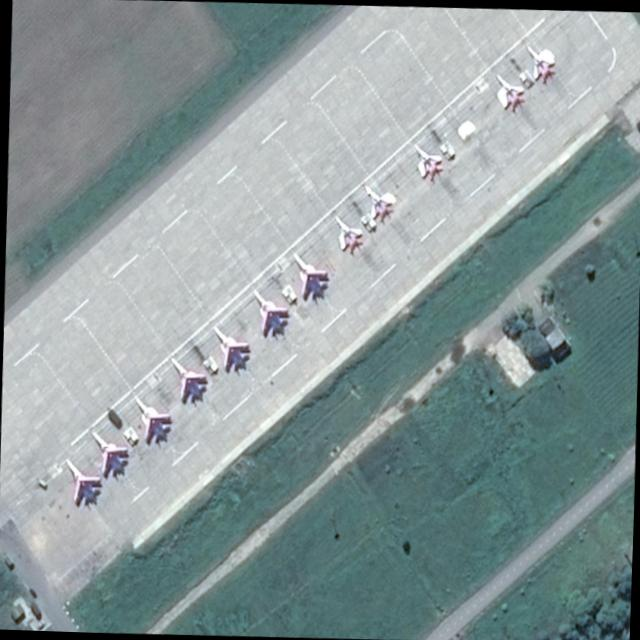plane: (79, 418, 137, 485), (279, 240, 335, 308), (241, 278, 296, 346), (122, 384, 177, 452), (54, 448, 109, 514), (159, 344, 213, 410), (203, 313, 255, 378), (353, 173, 399, 226), (516, 33, 561, 87), (485, 63, 530, 117), (403, 133, 448, 185), (325, 207, 367, 258)
